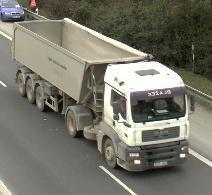Car: (0, 0, 25, 22)
Truck: (13, 19, 195, 173)
